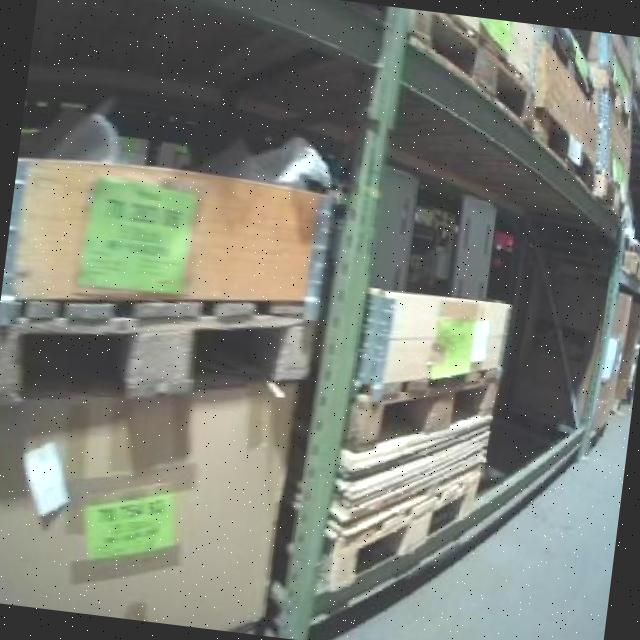pallet: (0, 253, 333, 444), (316, 455, 503, 604), (332, 340, 510, 474), (395, 7, 543, 148)
